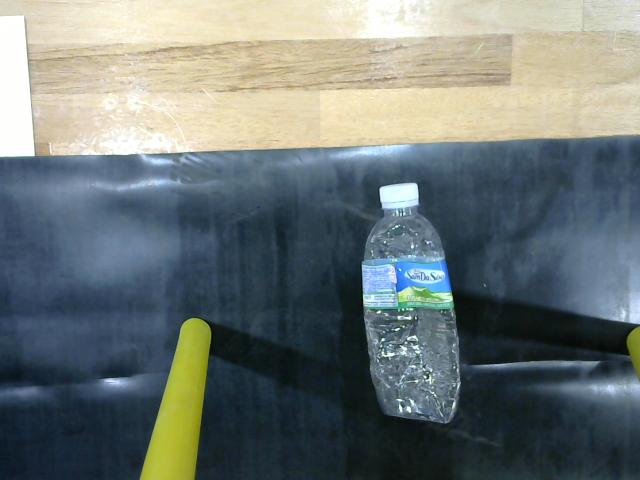bottle: (349, 167, 476, 436)
